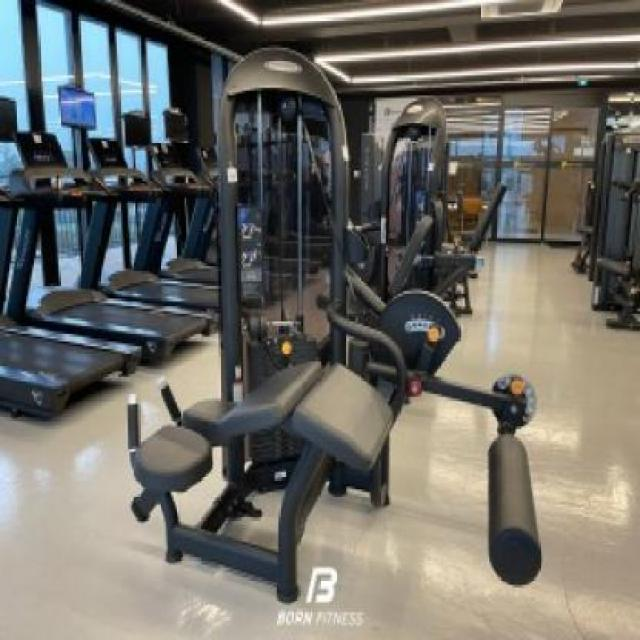reg curl machine: (116, 45, 550, 608)
